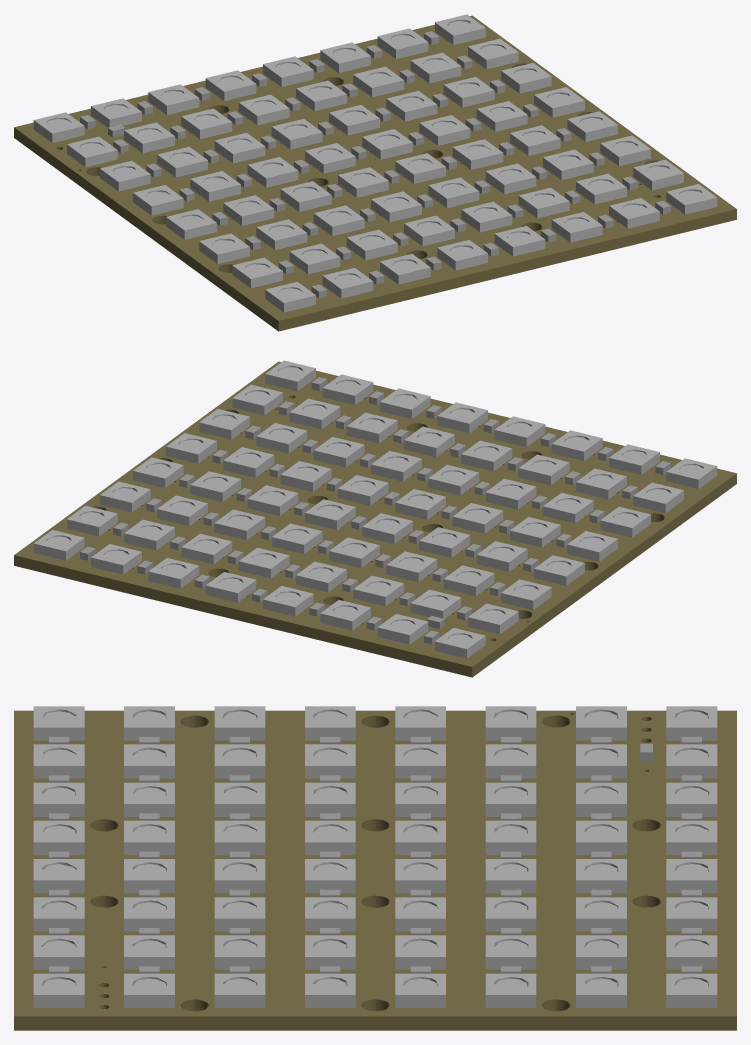
Rendered from ada-1487.glb.
3 views of the same model, one above another, from view 1: azimuth 30°, elevation 25°; view 2: azimuth 150°, elevation 25°; view 3: azimuth 270°, elevation 25° (orthographic). The views are drawn at different scales.
Parts seen in each view (by area): view 1: 0.4166666666666667_0.4166666666666667_0.4166666666666667_0, 0.16666666666666666_0.16666666666666666_0.08333333333333333_, 0.3333333333333333_0.3333333333333333_0.3333333333333333_0; view 2: 0.4166666666666667_0.4166666666666667_0.4166666666666667_0, 0.16666666666666666_0.16666666666666666_0.08333333333333333_, 0.3333333333333333_0.3333333333333333_0.3333333333333333_0; view 3: 0.16666666666666666_0.16666666666666666_0.08333333333333333_, 0.4166666666666667_0.4166666666666667_0.4166666666666667_0, 0.3333333333333333_0.3333333333333333_0.3333333333333333_0.
Boxes of the visible parts, x1,y1,x2,y2 form: 0.4166666666666667_0.4166666666666667_0.4166666666666667_0: (33,14,717,312); 0.16666666666666666_0.16666666666666666_0.08333333333333333_: (14,15,736,331); 0.3333333333333333_0.3333333333333333_0.3333333333333333_0: (80,31,670,298); 0.4166666666666667_0.4166666666666667_0.4166666666666667_0: (33,360,717,658); 0.16666666666666666_0.16666666666666666_0.08333333333333333_: (14,361,736,677); 0.3333333333333333_0.3333333333333333_0.3333333333333333_0: (80,377,670,644); 0.16666666666666666_0.16666666666666666_0.08333333333333333_: (14,710,736,1030); 0.4166666666666667_0.4166666666666667_0.4166666666666667_0: (33,706,717,1007); 0.3333333333333333_0.3333333333333333_0.3333333333333333_0: (49,737,701,973).
Size of the model in its own units: 7.11 by 0.2972 by 7.11.
